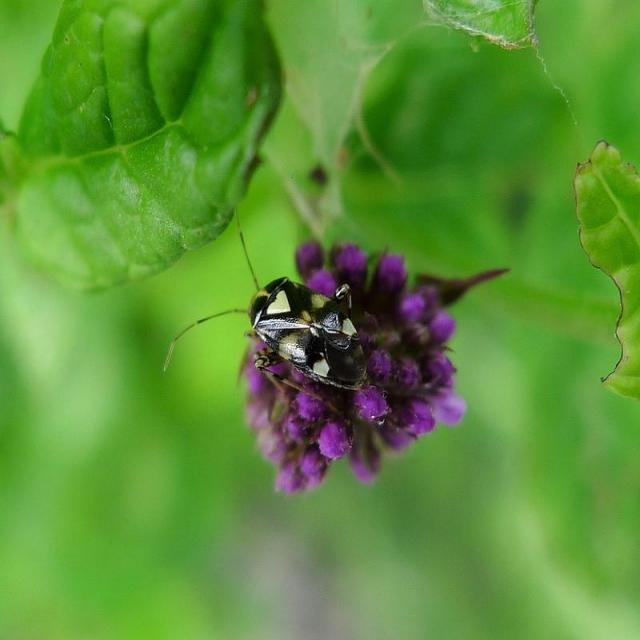Miridae-Adult-: (170, 202, 392, 407)
